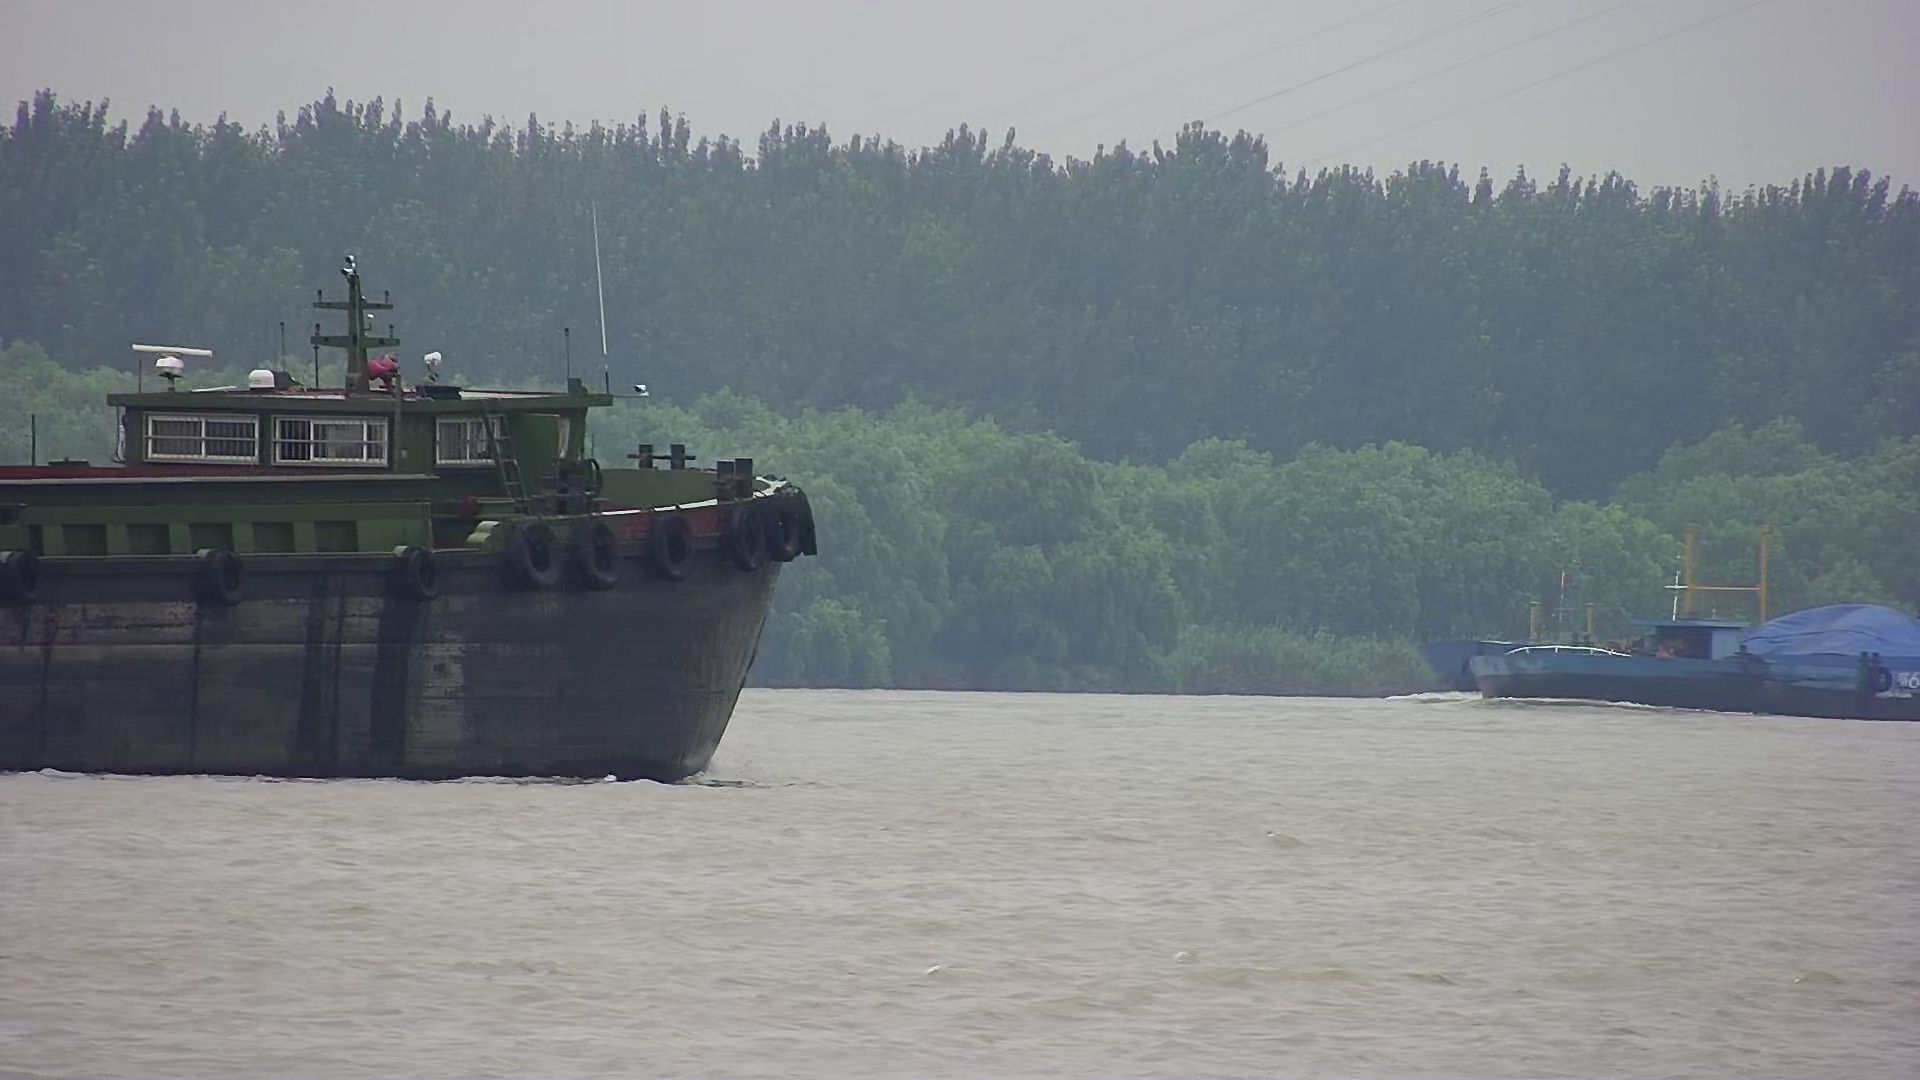ship: (1, 249, 820, 787), (1425, 524, 1920, 709), (1466, 583, 1920, 735)
